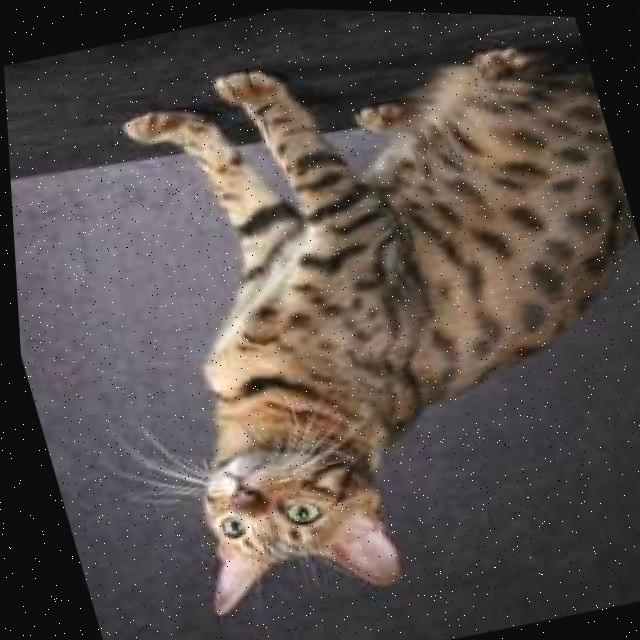Bengal: (48, 1, 640, 638)
